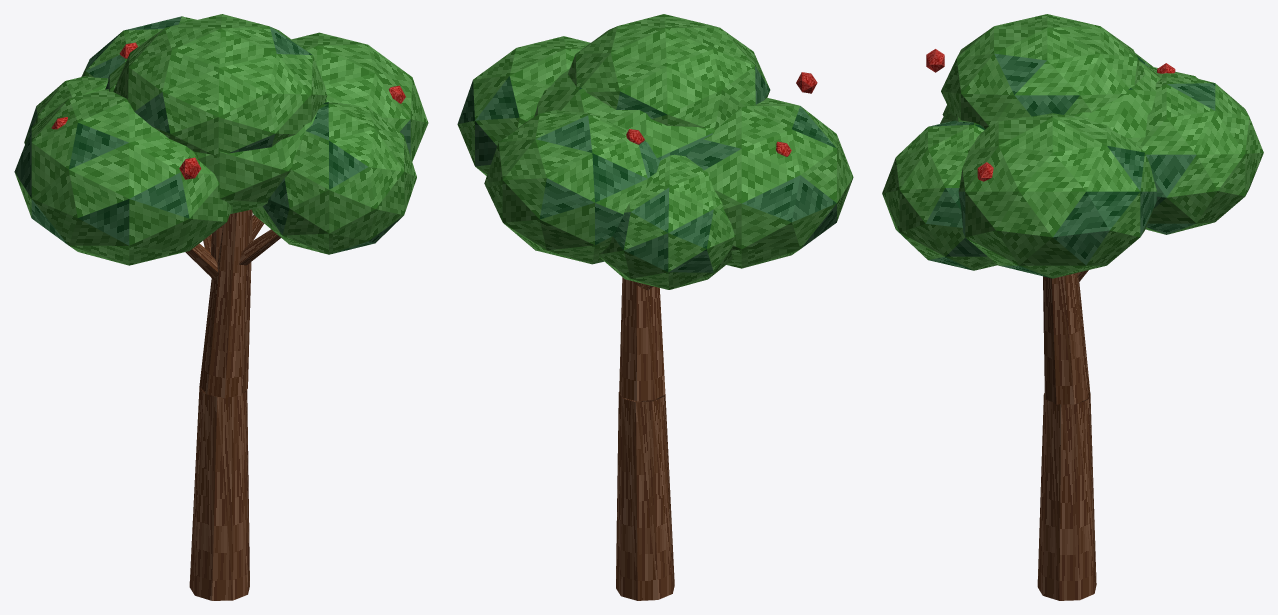
Rendered from 10_manzano.glb.
The picture shows the model from 3 angles, left to right: view 1: azimuth 30°, elevation 25°; view 2: azimuth 150°, elevation 25°; view 3: azimuth 270°, elevation 25°; orthographic projection. The views are drawn at different scales.
Parts seen in each view (by area): view 1: world; view 2: world; view 3: world.
Part boxes in pixels (left/top/right/bottom): world: left=14, top=14, right=428, bottom=600; world: left=457, top=14, right=853, bottom=600; world: left=882, top=14, right=1263, bottom=600.
Bounding box in the file's own units: 12.49 × 18 × 11.2.
1 material, 1 textured.
